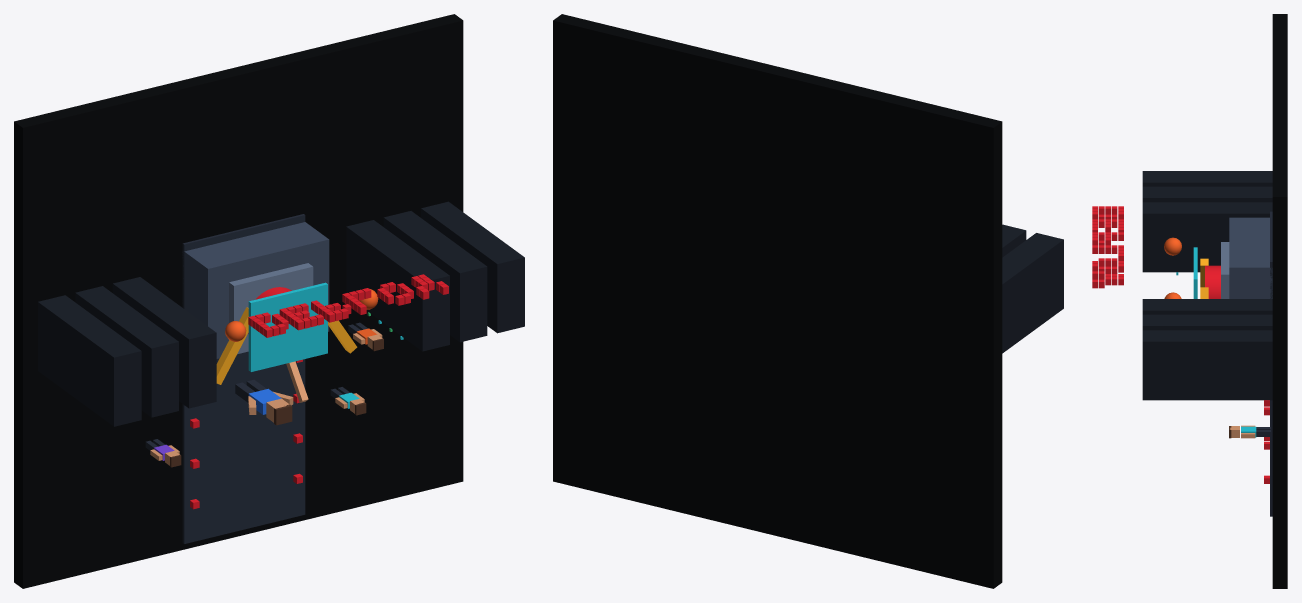
File: 03-deploy-button.obj
The picture shows the model from 3 angles, left to right: view 1: azimuth 30°, elevation 25°; view 2: azimuth 150°, elevation 25°; view 3: azimuth 270°, elevation 25°; orthographic projection. The views are drawn at different scales.
Visible parts, largest first — view 1: floor, runway, server_rack_l_3, button_plinth, server_rack_r_1, server_rack_l_1, server_rack_r_2, server_rack_l_2, server_rack_r_3, button_safety_glass, button_bezel, warning_bar_l; view 2: floor, server_rack_l_3; view 3: server_rack_r_3, floor, server_rack_l_1, button_plinth, server_rack_l_2, server_rack_r_2, server_rack_l_3, server_rack_r_1, runway, button_bezel, deploy_button.
Boxes of the visible parts, box(x1,y1,x2,y2) form: floor: box(14, 14, 463, 588); runway: box(182, 214, 305, 543); server_rack_l_3: box(38, 295, 141, 426); button_plinth: box(182, 222, 329, 358); server_rack_r_1: box(346, 220, 449, 351); server_rack_l_1: box(112, 277, 216, 408); server_rack_r_2: box(383, 211, 487, 342); server_rack_l_2: box(75, 286, 178, 417); server_rack_r_3: box(421, 201, 524, 333); button_safety_glass: box(248, 282, 327, 371); button_bezel: box(229, 263, 313, 354); warning_bar_l: box(216, 307, 248, 384); floor: box(553, 14, 1002, 588); server_rack_l_3: box(1002, 233, 1063, 353); server_rack_r_3: box(1142, 330, 1272, 400); floor: box(1272, 14, 1287, 588); server_rack_l_1: box(1142, 202, 1272, 272); button_plinth: box(1229, 217, 1272, 298); server_rack_l_2: box(1142, 186, 1272, 202); server_rack_r_2: box(1142, 314, 1272, 330); server_rack_l_3: box(1142, 171, 1272, 186); server_rack_r_1: box(1142, 299, 1272, 314); runway: box(1270, 211, 1272, 516); button_bezel: box(1221, 242, 1229, 298); deploy_button: box(1205, 265, 1220, 298).
Bounding box in the file's own units: 20 × 20 × 9.03.
